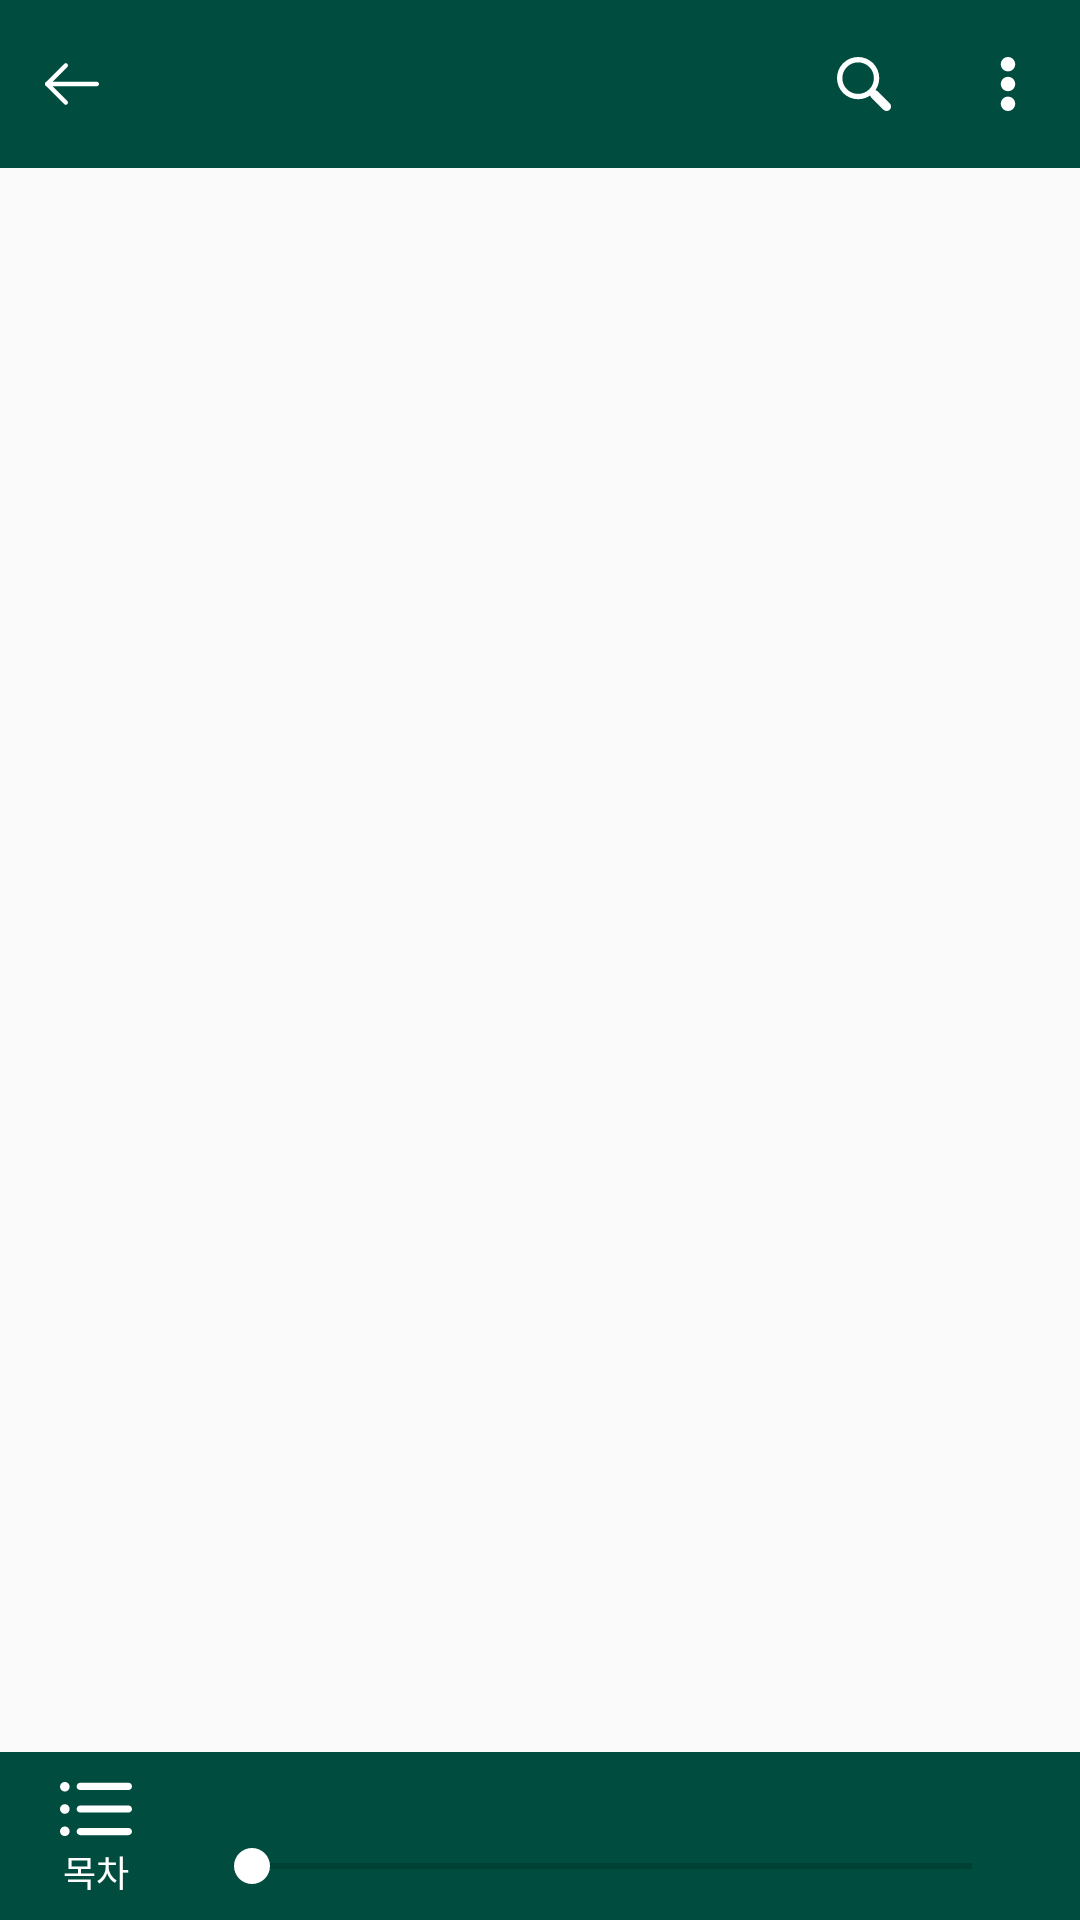

Icon bounding boxes for this 1080px x 1920px phone screenshot, format (x1, y1, x2, y2):
back: (45, 63, 99, 105)
reader more: (1000, 57, 1016, 111)
reader search: (837, 57, 891, 111)
